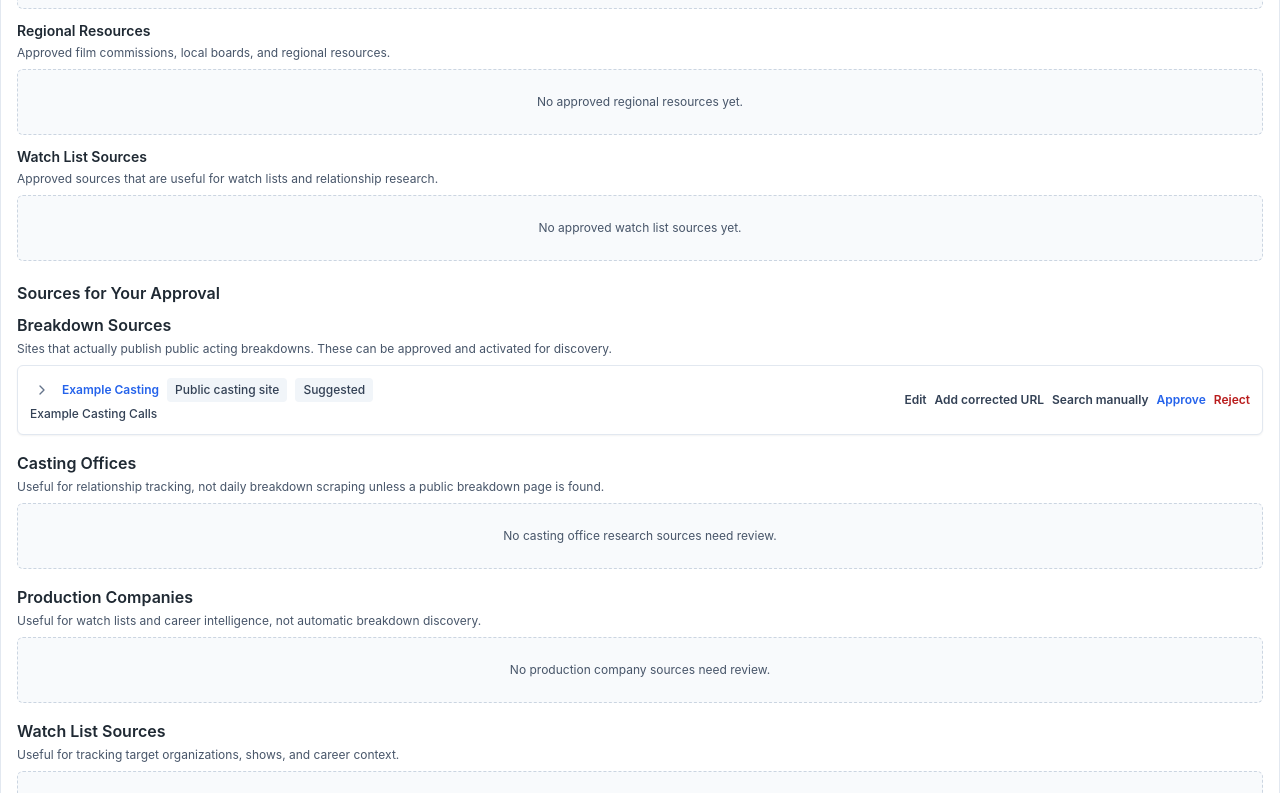
SourceLibraryPanel › rejects a source and immediately hides it from the ordinary view
(page scrolled)
Click the button "Reject": (1232, 400) left=1214, top=392, right=1250, bottom=408
(page scrolled)
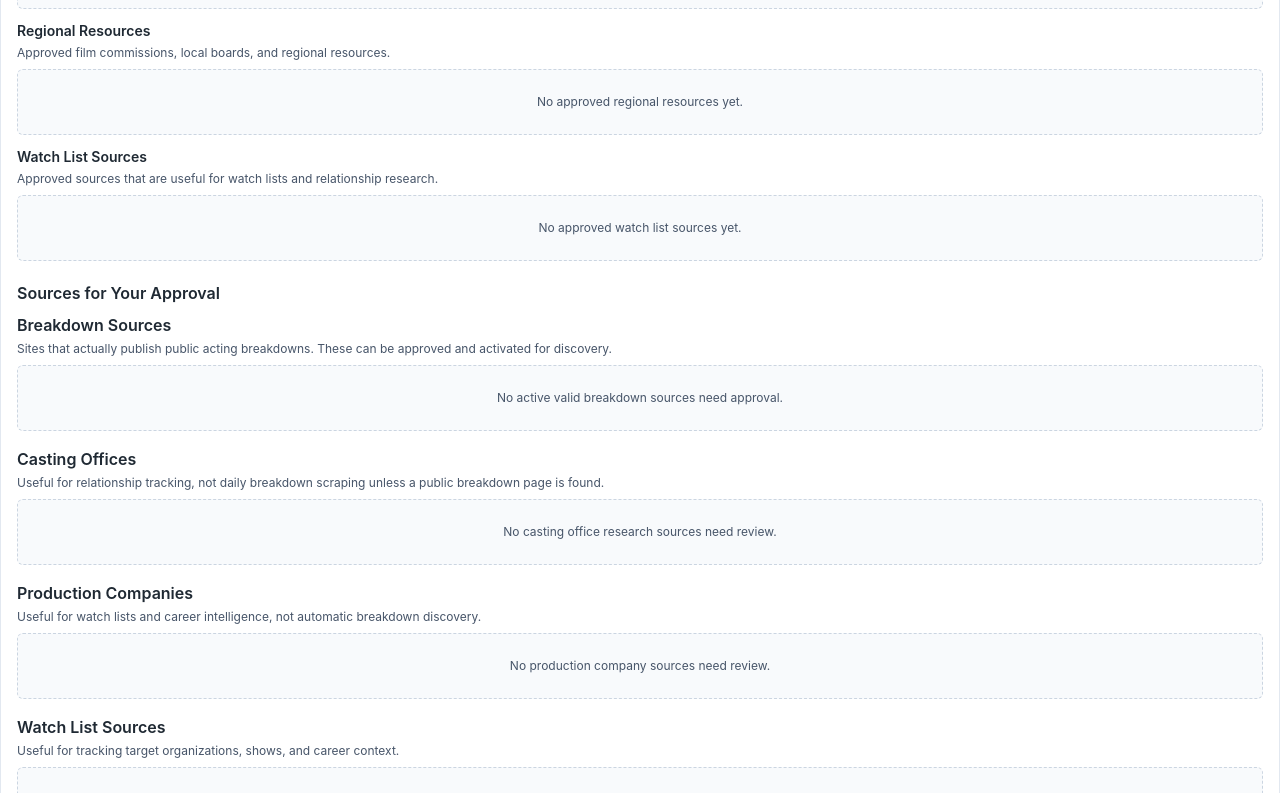
Expected: the link "Example Casting" is gone
